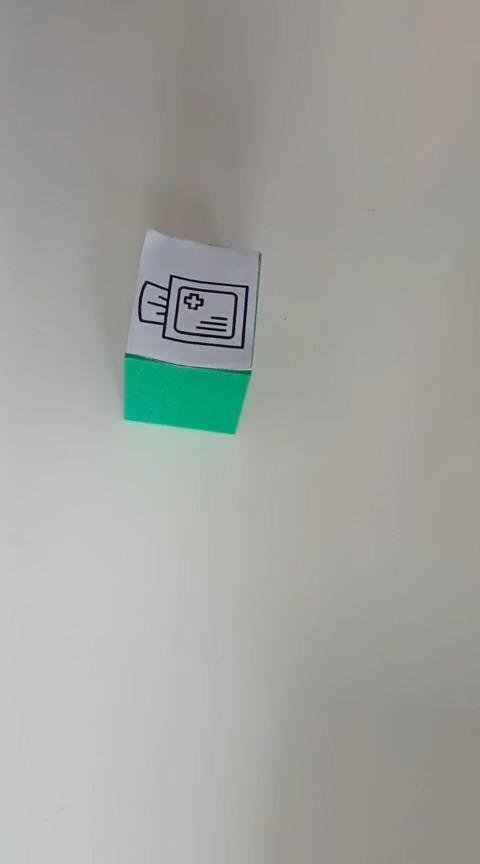Gauze: (121, 226, 262, 435)
